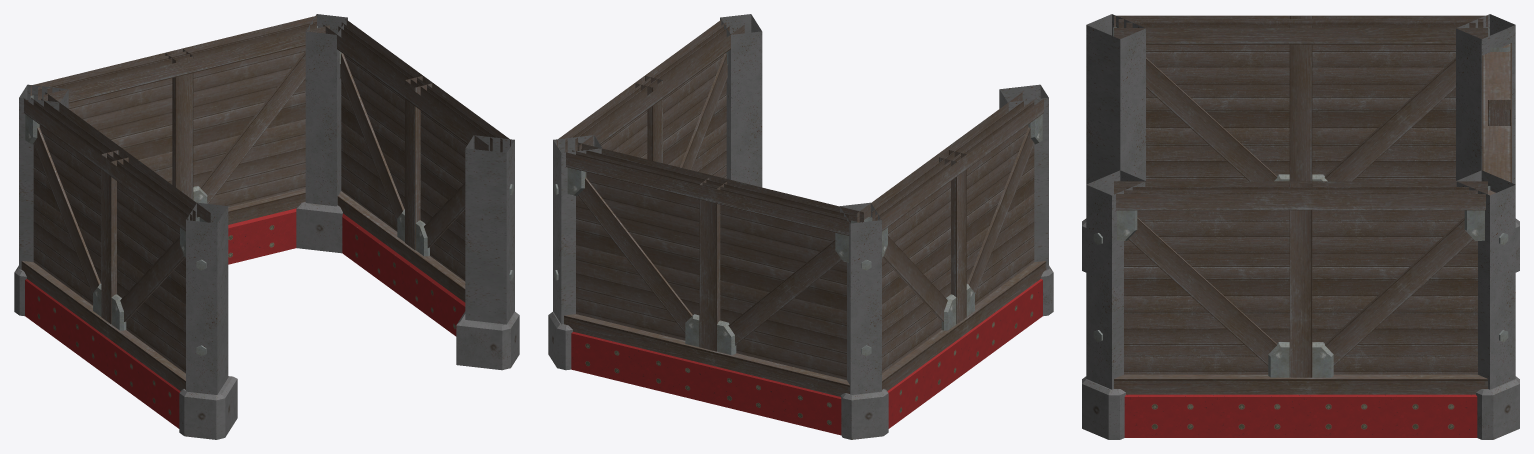
File: Ob_WallTriple_RC.fbx
3 views of the same model, side by side, from view 1: azimuth 30°, elevation 25°; view 2: azimuth 150°, elevation 25°; view 3: azimuth 270°, elevation 25° (orthographic). The views are drawn at different scales.
Visible parts, largest first — view 1: Ob_WallTriple_RC; view 2: Ob_WallTriple_RC; view 3: Ob_WallTriple_RC.
Part boxes in pixels (bbox=[...]): Ob_WallTriple_RC: bbox=[14, 14, 519, 439]; Ob_WallTriple_RC: bbox=[548, 14, 1053, 439]; Ob_WallTriple_RC: bbox=[1082, 14, 1519, 439].
Size of the model in its own units: 1635 by 1000 by 1635.
